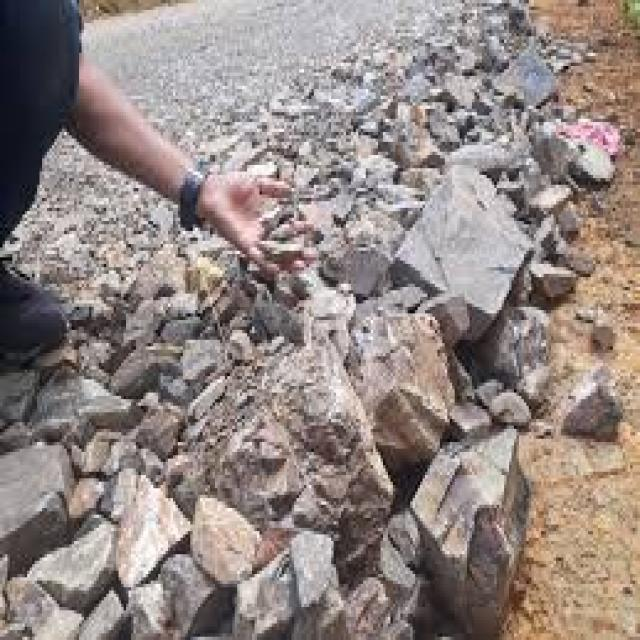Pecahan Agregat: (81, 11, 577, 602)
